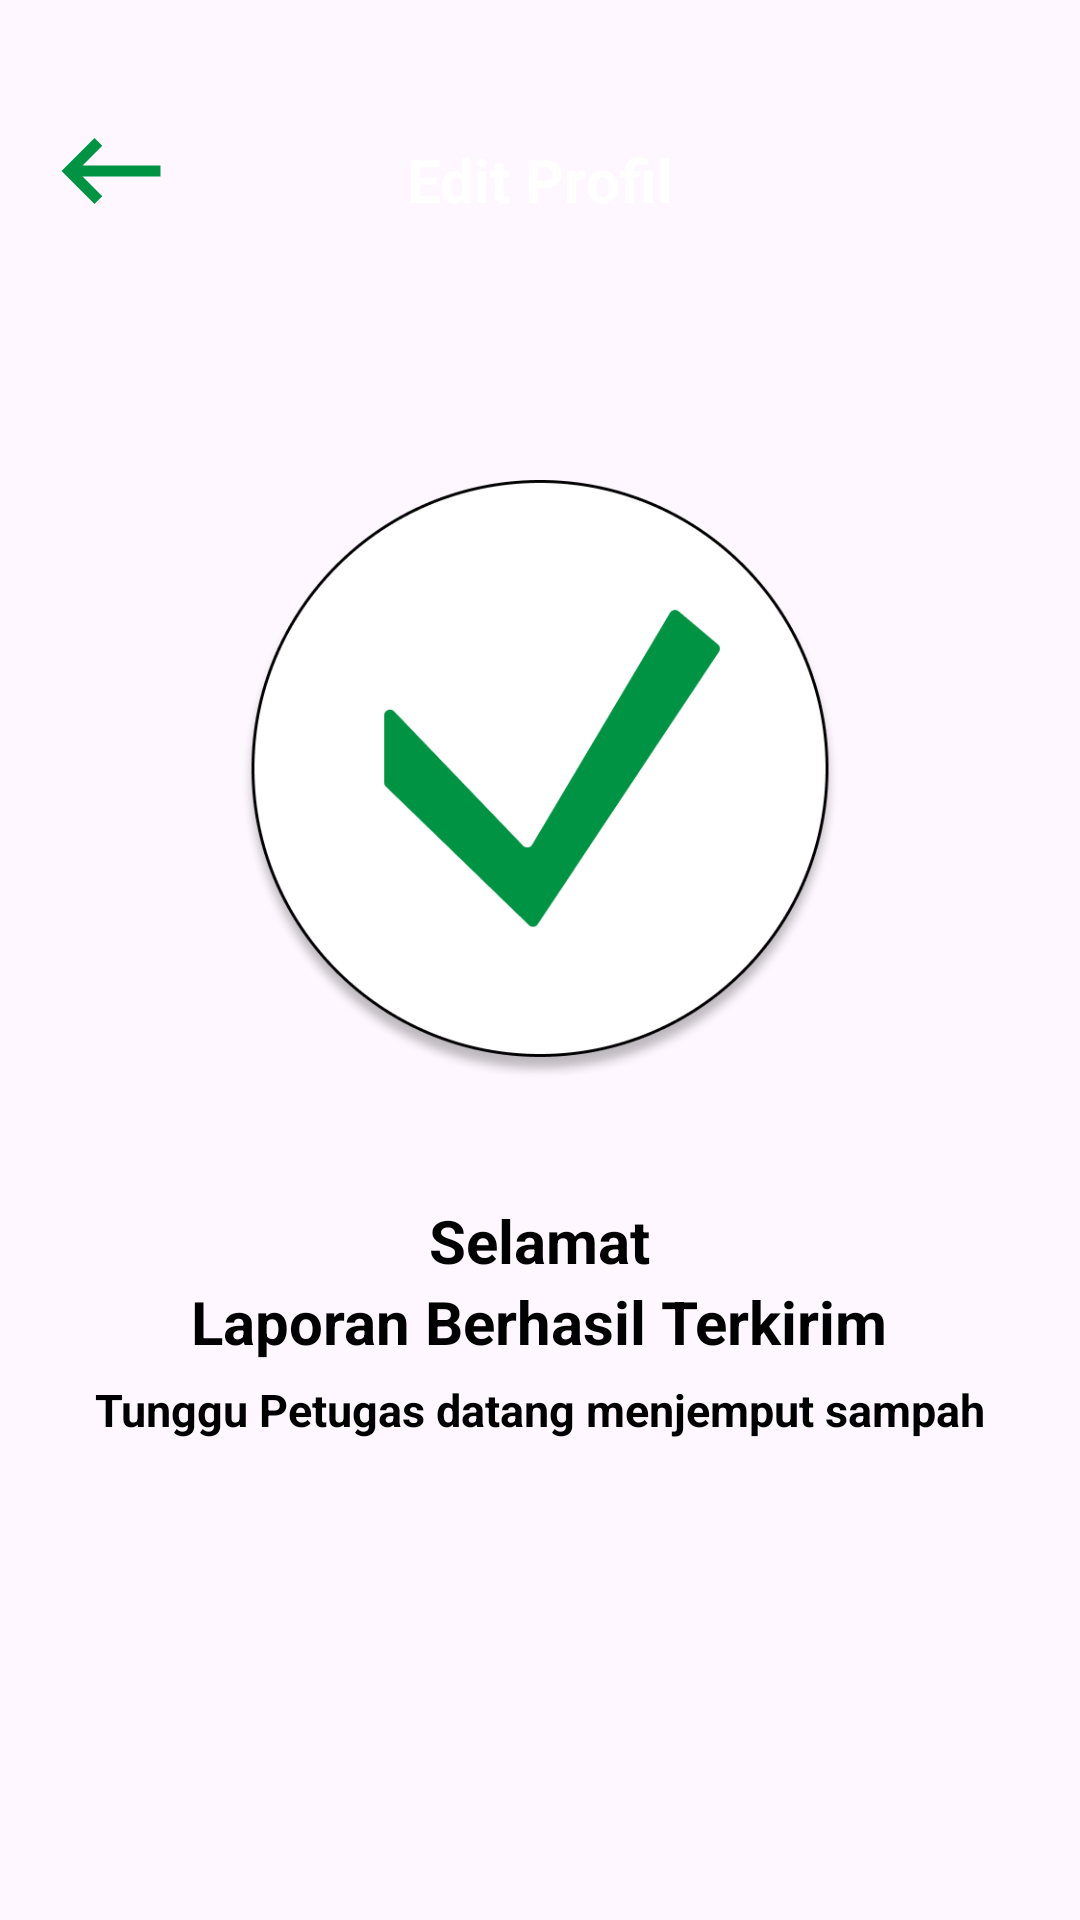

Screen size 1080px x 1920px. Icon name, then its box in pixels as (x1, y1, x2, y2):
keyboard backspace: (61, 138, 161, 204)
